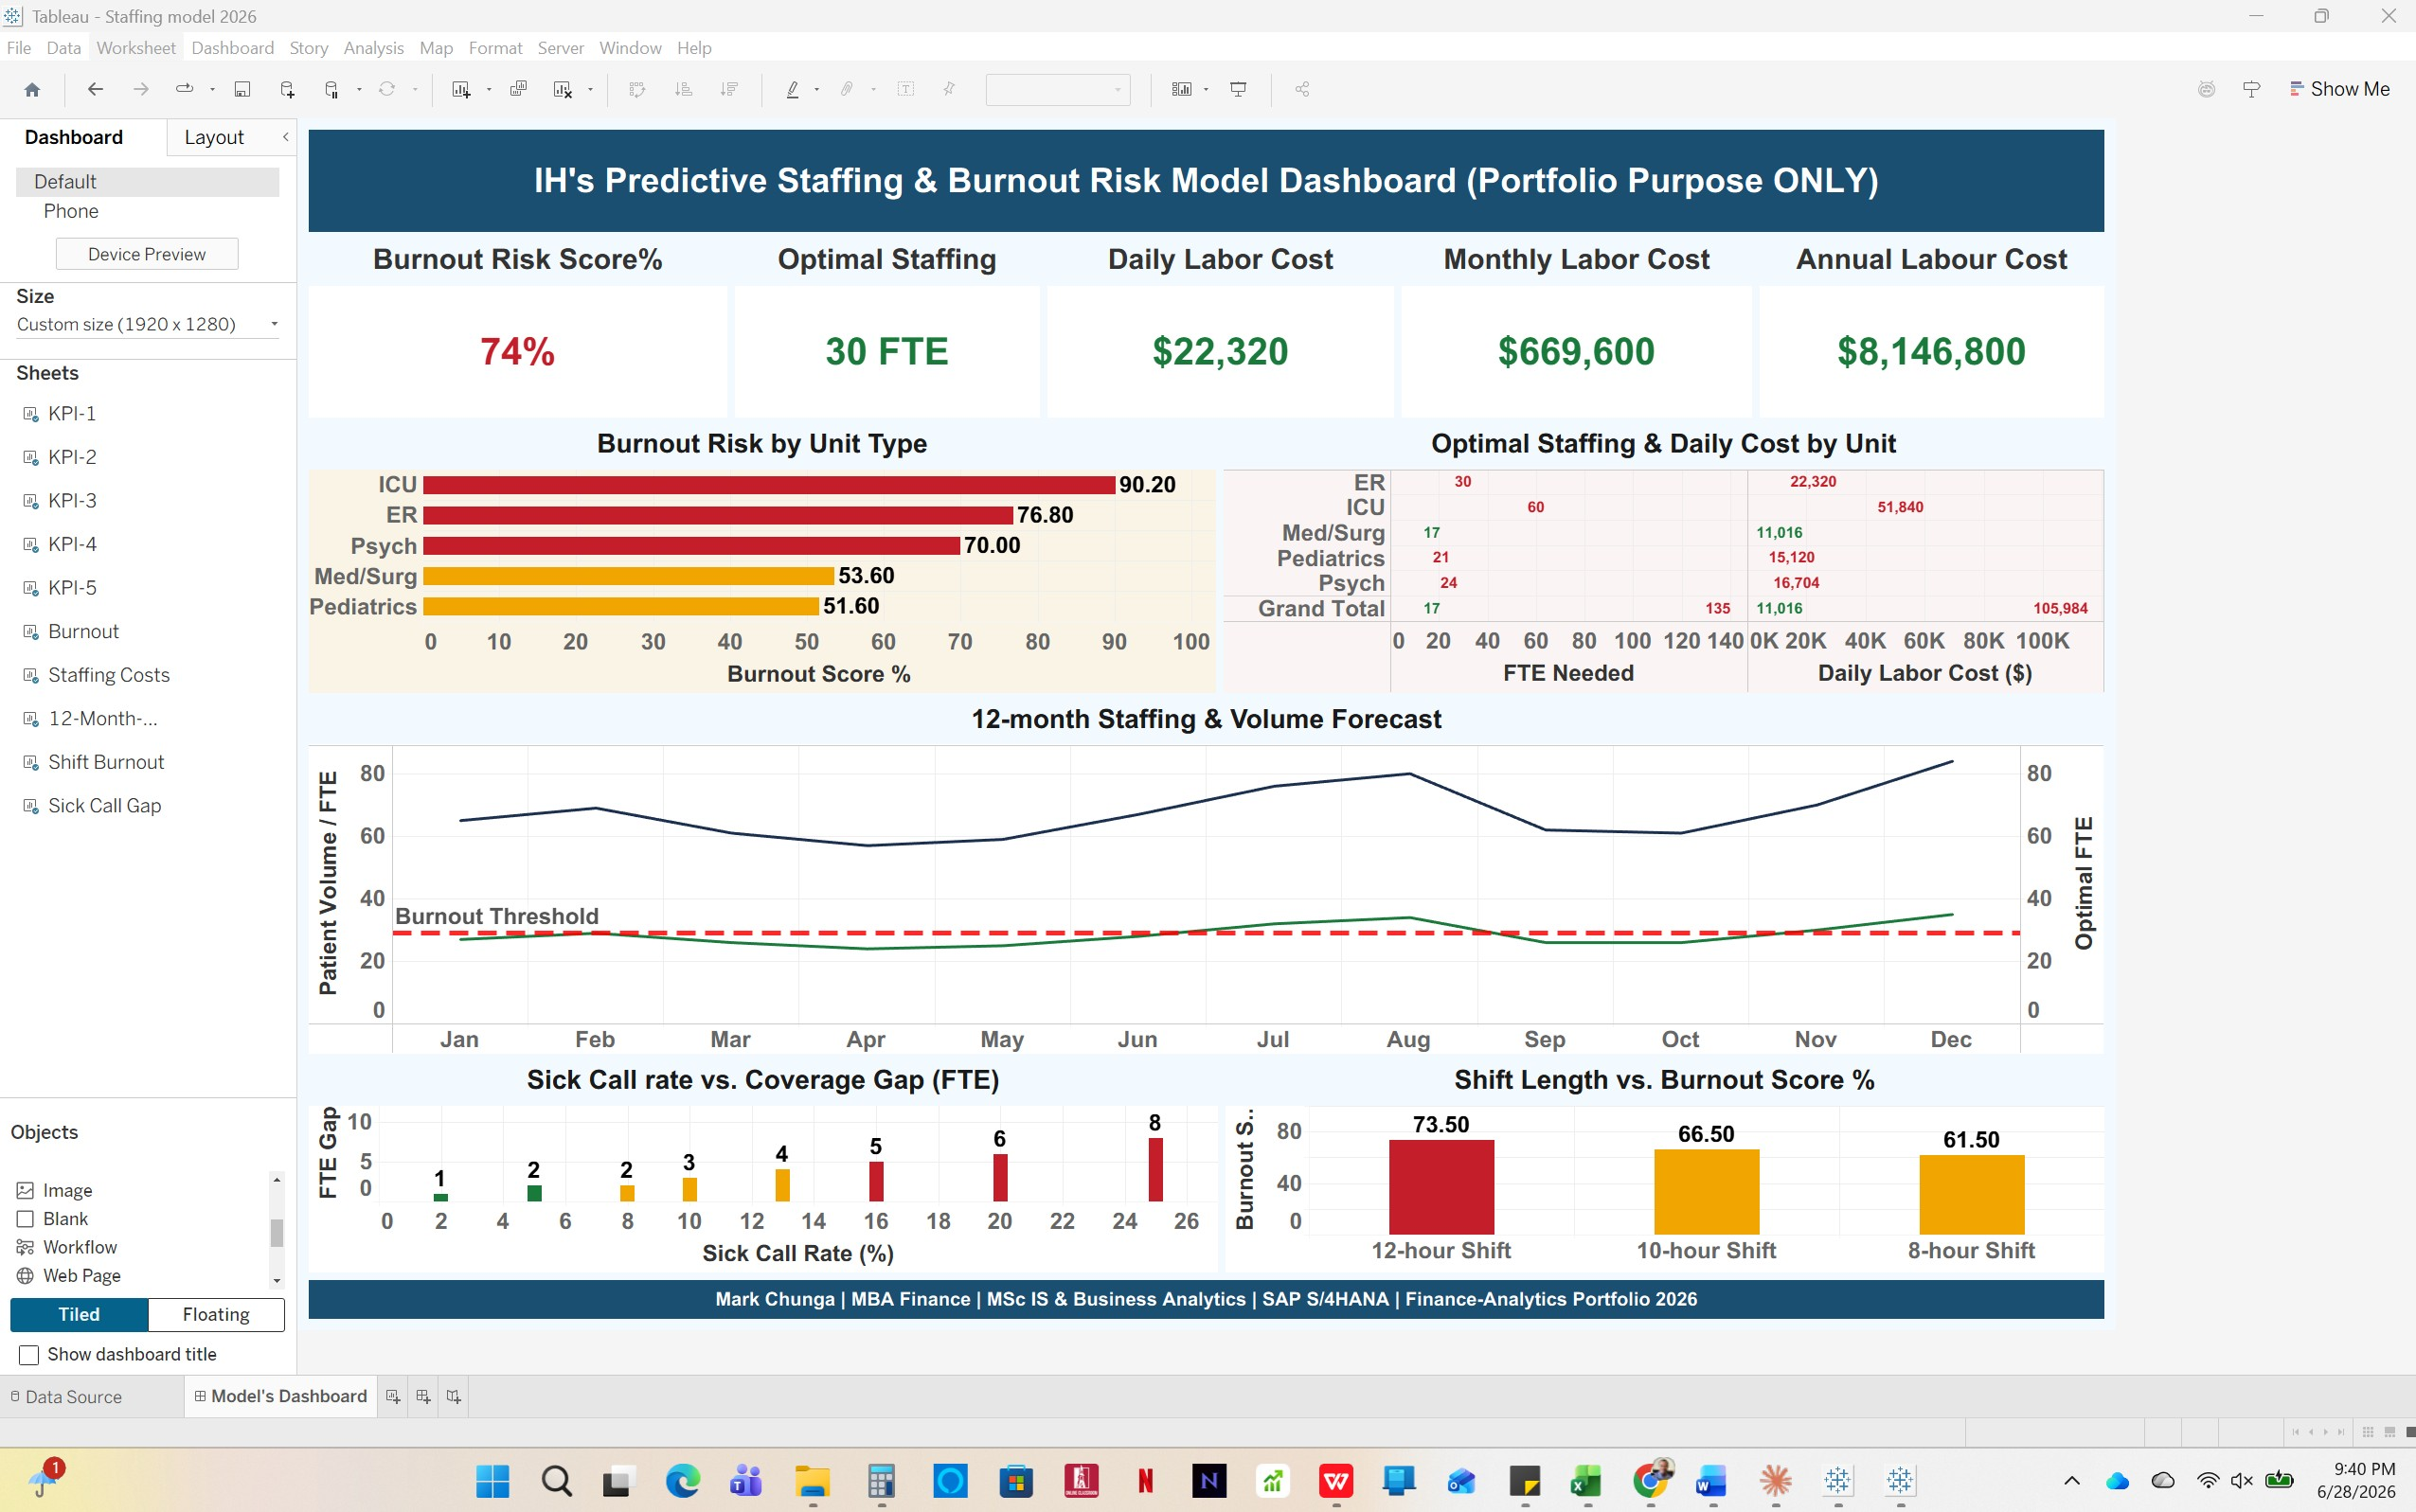

The page's visual inventory and layout, read from the dashboard file:
{"tool":"tableau","page":{"name":"Model's Dashboard","canvas":[1920,1280],"ordinal":0},"visuals":[{"type":"text","box":[8,8,1904,107.3]},{"type":"worksheet","title":"KPI-1","mark":"Text","box":[8,115.3,373,180.7]},{"type":"worksheet","title":"KPI-2","mark":"Text","box":[381,115.3,407,180.7]},{"type":"worksheet","title":"KPI-3","mark":"Text","box":[788,115.3,374,180.7]},{"type":"worksheet","title":"KPI-4","mark":"Text","box":[1162,115.3,378,180.7]},{"type":"worksheet","title":"KPI-5","mark":"Text","box":[1540,115.3,372,180.7]},{"type":"blank","box":[8,296,1904,24]},{"type":"worksheet","title":"Burnout","mark":"Bar","rows":["Unit"],"cols":["Burnout_Score_Pct"],"box":[8,320,966,291]},{"type":"worksheet","title":"Staffing Costs","mark":"Text","rows":["Unit"],"cols":["FTE_Needed","Daily_Cost"],"box":[974,320,938,291]},{"type":"worksheet","title":"12-Month-Forecast","mark":"Line","rows":["Patient_Volume","Optimal_FTE"],"cols":["Month"],"box":[8,611,1904,349]},{"type":"blank","box":[8,960,1904,32]},{"type":"worksheet","title":"Sick Call Gap","mark":"Bar","rows":["FTE_Gap"],"cols":["Sick_Call_Rate_Pct"],"box":[8,992,968,231.4]},{"type":"worksheet","title":"Shift Burnout","mark":"Bar","rows":["Burnout_Score_Pct"],"cols":["Shift_Label"],"box":[976,992,936,231.4]},{"type":"text","box":[8,1223.4,1904,48.6]}]}

Visuals, with their boxes on the page's 1920x1280 design canvas (x1, y1, x2, y2). These are canvas units, not pixel positions in the 2416x1512 screenshot, which may show the page scaled, cropped or inside an application window:
text: [left=8, top=8, right=1912, bottom=115]
"KPI-1" worksheet (Text marks): [left=8, top=115, right=381, bottom=296]
"KPI-2" worksheet (Text marks): [left=381, top=115, right=788, bottom=296]
"KPI-3" worksheet (Text marks): [left=788, top=115, right=1162, bottom=296]
"KPI-4" worksheet (Text marks): [left=1162, top=115, right=1540, bottom=296]
"KPI-5" worksheet (Text marks): [left=1540, top=115, right=1912, bottom=296]
blank: [left=8, top=296, right=1912, bottom=320]
"Burnout" worksheet (Bar marks): [left=8, top=320, right=974, bottom=611]
"Staffing Costs" worksheet (Text marks): [left=974, top=320, right=1912, bottom=611]
"12-Month-Forecast" worksheet (Line marks): [left=8, top=611, right=1912, bottom=960]
blank: [left=8, top=960, right=1912, bottom=992]
"Sick Call Gap" worksheet (Bar marks): [left=8, top=992, right=976, bottom=1223]
"Shift Burnout" worksheet (Bar marks): [left=976, top=992, right=1912, bottom=1223]
text: [left=8, top=1223, right=1912, bottom=1272]
